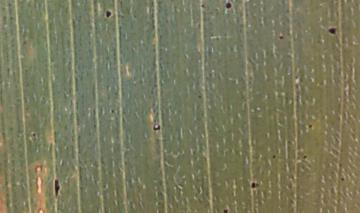tarspot: (52, 178, 61, 197), (326, 26, 337, 37), (150, 121, 162, 131), (103, 7, 113, 19), (223, 1, 232, 10), (249, 181, 257, 189), (301, 154, 308, 161), (339, 175, 346, 182), (199, 3, 206, 9), (30, 132, 37, 138), (109, 108, 115, 115), (277, 35, 285, 40), (307, 123, 313, 129), (221, 208, 228, 213), (196, 94, 203, 99), (271, 153, 275, 160)
